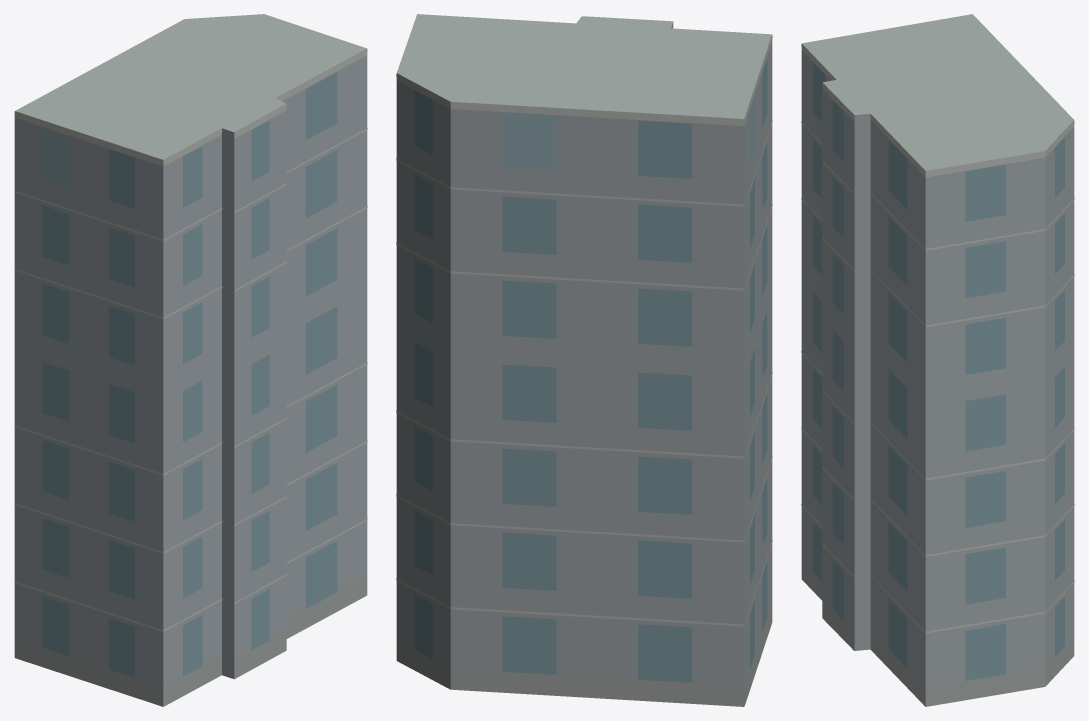
The model's file is survey-upis-32743488.glb.
3 renders of one model, left to right at view 1: azimuth 30°, elevation 25°; view 2: azimuth 150°, elevation 25°; view 3: azimuth 270°, elevation 25°, orthographic. The views are drawn at different scales.
Visible parts, largest first — view 1: survey-upis-32743488.tmp; view 2: survey-upis-32743488.tmp; view 3: survey-upis-32743488.tmp.
Part boxes in pixels (x1,y1,x2,y2): survey-upis-32743488.tmp: (14,14,367,706); survey-upis-32743488.tmp: (396,14,772,706); survey-upis-32743488.tmp: (801,14,1074,706).
Bounding box in the file's own units: 12.59 × 20 × 9.25.
